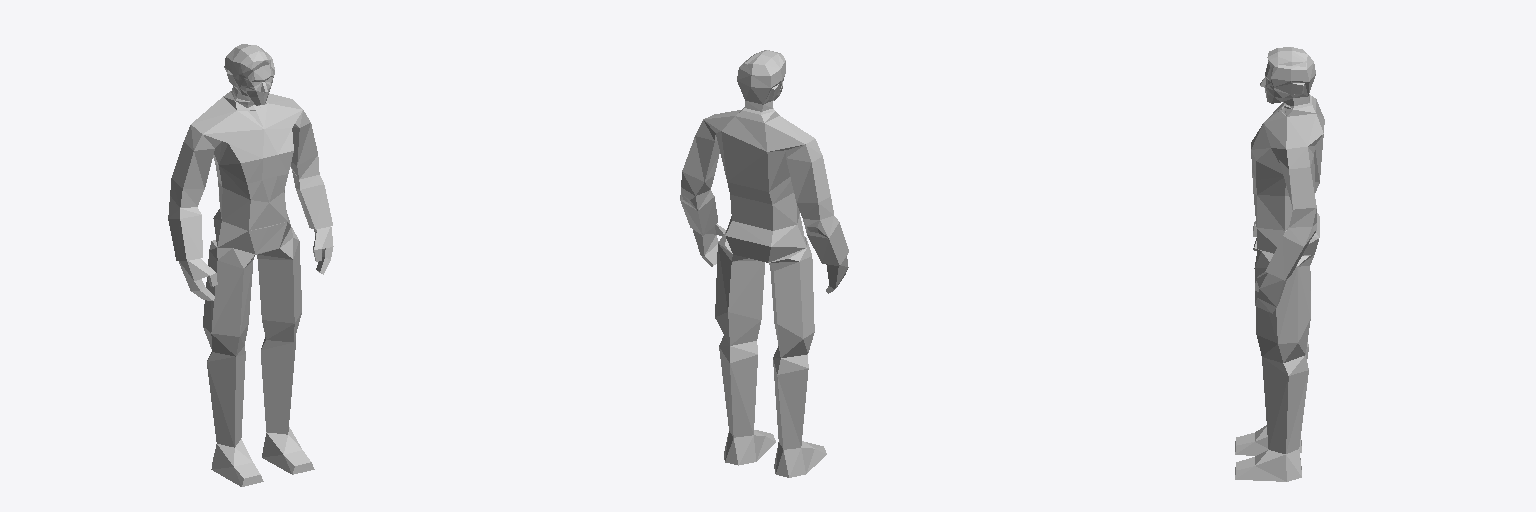
Rendered from Manuel37.obj.
3 renders of one model, left to right at view 1: azimuth 30°, elevation 25°; view 2: azimuth 150°, elevation 25°; view 3: azimuth 270°, elevation 25°, orthographic.
Parts seen in each view (by area): view 1: leon; view 2: leon; view 3: leon.
Part boxes in pixels (left/top/right/bottom): leon: left=168, top=44, right=333, bottom=486; leon: left=680, top=50, right=848, bottom=477; leon: left=1235, top=47, right=1324, bottom=481.
Bounding box in the file's own units: 4.69 × 12.19 × 2.41.